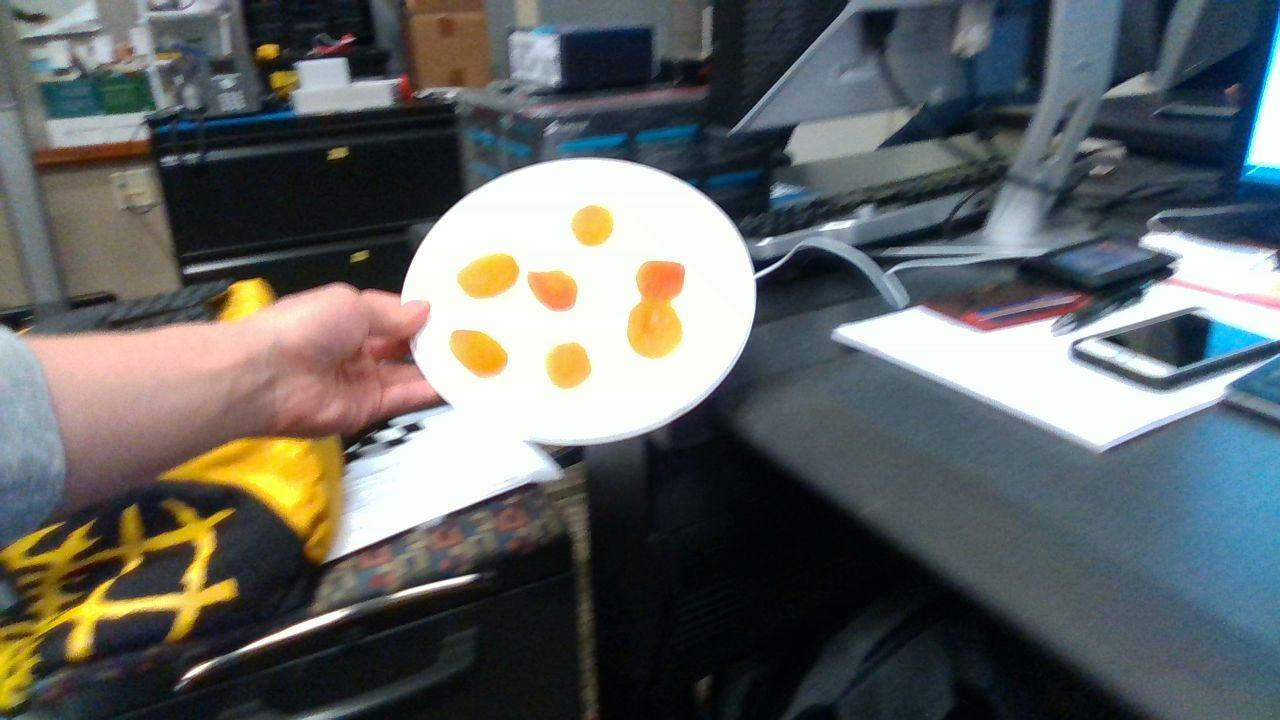apricot: (627, 303, 682, 357), (450, 330, 508, 377), (459, 254, 519, 298), (544, 343, 592, 389), (527, 269, 577, 310), (636, 261, 685, 301), (573, 205, 613, 246)
